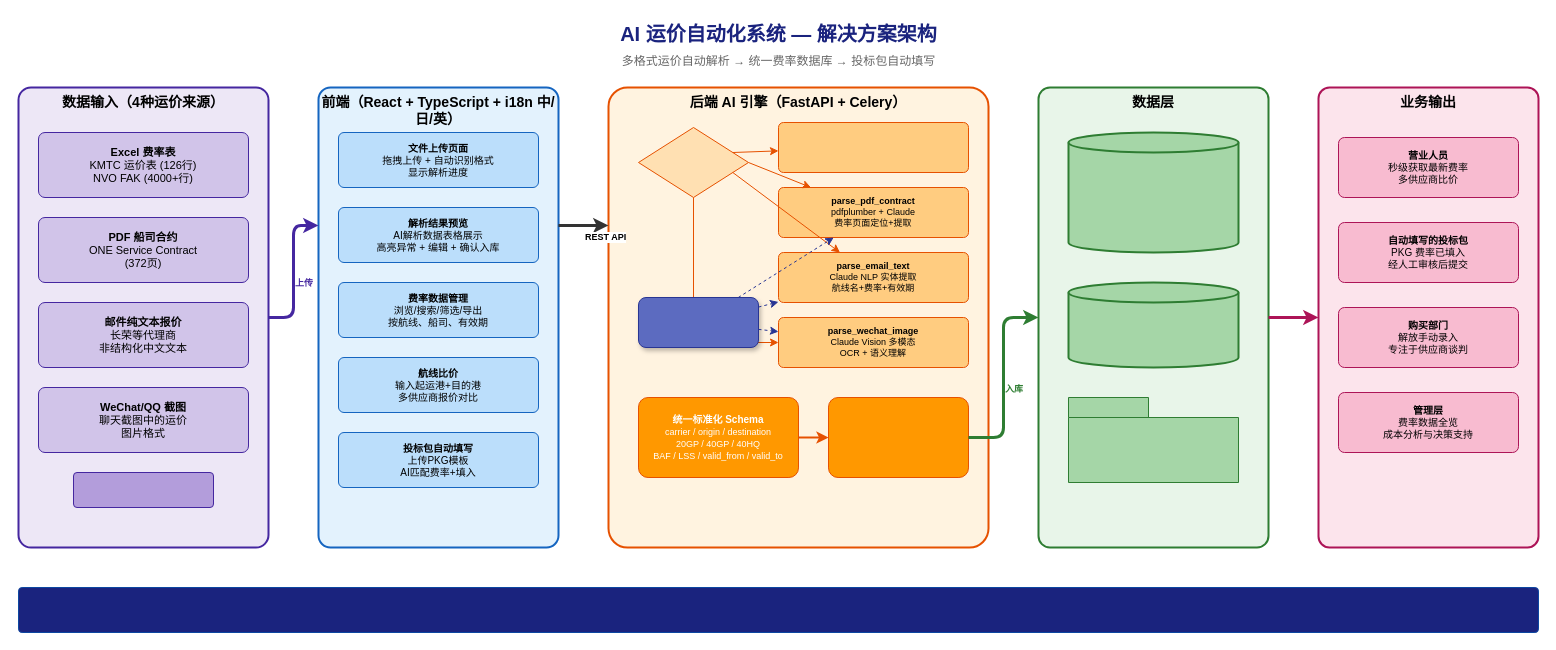
Some shapes in this 1556 by 650 pixel diagram are drawn without their labels. Each missing label, with the centre of its shape:
Claude API 文本理解 | 图片识别 | 翻译: the point at 699,323
parse_excel_tariff pandas + openpyxl 列结构自动映射: the point at 873,147
PostgreSQL freight_rates ports carriers upload_logs: the point at 1153,192
Redis 热门航线缓存 Celery队列: the point at 1153,324
validate_rate 范围检查 历史比对 异常标记: the point at 898,437
文件存储 原始上传文件 生成的PKG: the point at 1153,439
核心价值： 运价录入从 数小时人工 → 分钟级自动 | 数据管理从 分散Excel → 统一数据库 | 投标填写从 逐条手动 → AI自动+人工审核: the point at 778,609
格式识别 路由分发: the point at 693,162
购买部门上传: the point at 143,490
